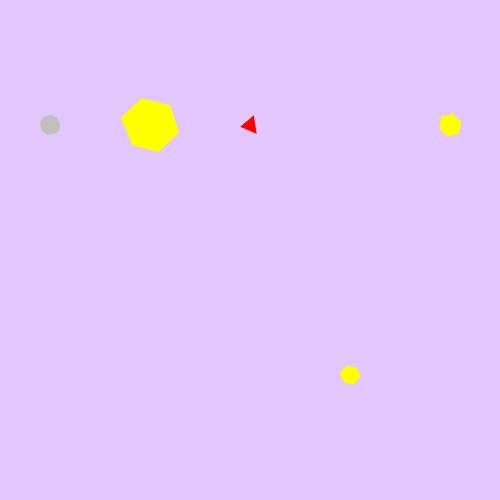decagon: (35, 111, 65, 139)
hexagon: (117, 98, 183, 153), (434, 111, 467, 139), (335, 362, 365, 388)
triangle: (238, 112, 263, 138)
